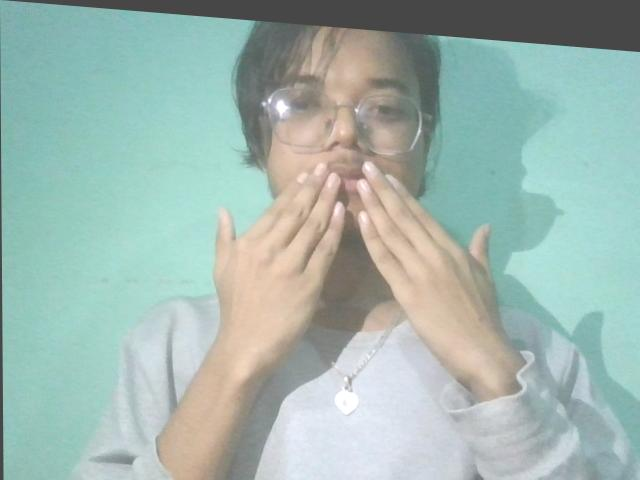Thank You: (149, 89, 565, 444)
